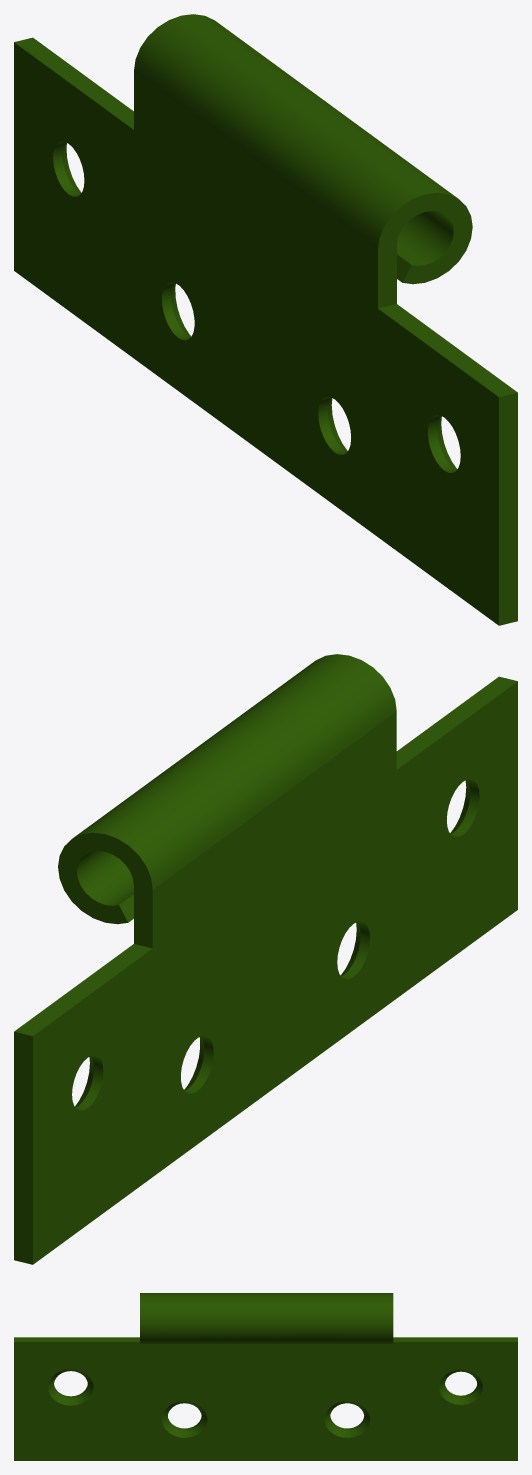
File: original-29.obj
The picture shows the model from 3 angles, top to bottom: view 1: azimuth 30°, elevation 25°; view 2: azimuth 150°, elevation 25°; view 3: azimuth 270°, elevation 25°; orthographic projection. The views are drawn at different scales.
Parts seen in each view (by area): view 1: Group6/mesh55/mesh55-geometry#mesh55-geometry; view 2: Group6/mesh55/mesh55-geometry#mesh55-geometry; view 3: Group6/mesh55/mesh55-geometry#mesh55-geometry.
Boxes of the visible parts, left/top/right/bottom form: Group6/mesh55/mesh55-geometry#mesh55-geometry: left=14, top=14, right=517, bottom=625; Group6/mesh55/mesh55-geometry#mesh55-geometry: left=14, top=654, right=517, bottom=1264; Group6/mesh55/mesh55-geometry#mesh55-geometry: left=14, top=1293, right=517, bottom=1460.
Bounding box in the file's own units: 0.00858 × 0.0286 × 0.076.
